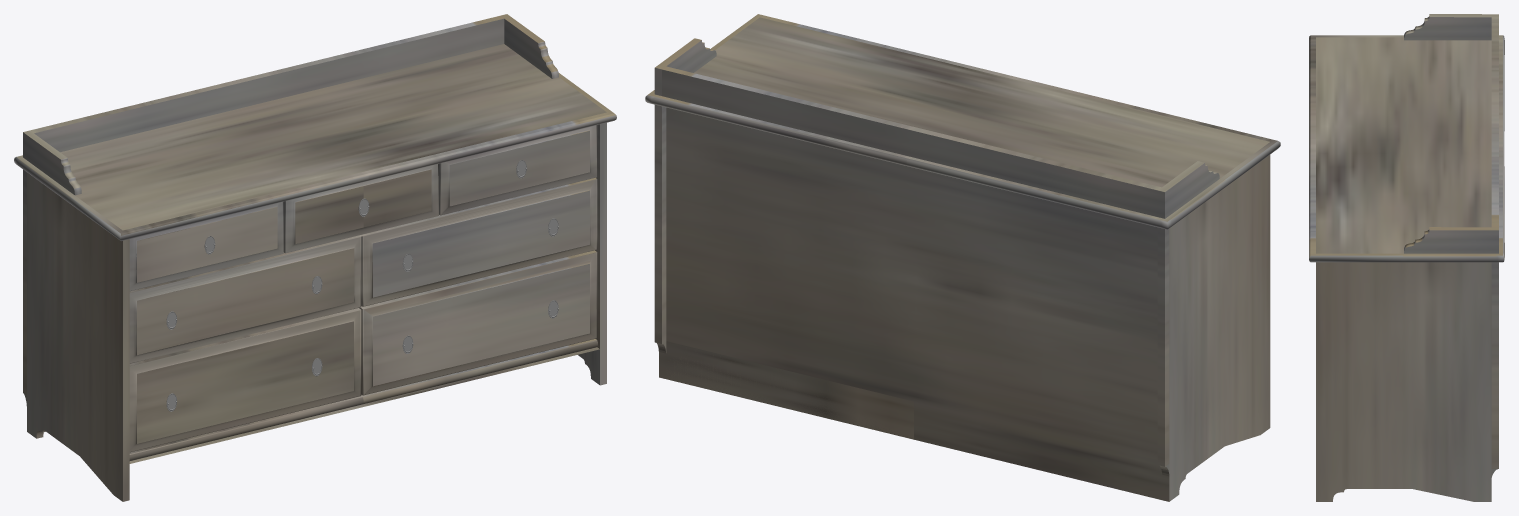
Rendered from chest.obj.
3 renders of one model, left to right at view 1: azimuth 30°, elevation 25°; view 2: azimuth 150°, elevation 25°; view 3: azimuth 270°, elevation 25°, orthographic. The views are drawn at different scales.
Visible parts, largest first — view 1: Cube; view 2: Cube; view 3: Cube.
Part boxes in pixels (box(x1,y1,x2,y2)): Cube: box(14, 14, 616, 501); Cube: box(645, 14, 1280, 501); Cube: box(1309, 14, 1504, 501).
Size of the model in its own units: 143 by 82.06 by 53.58.
